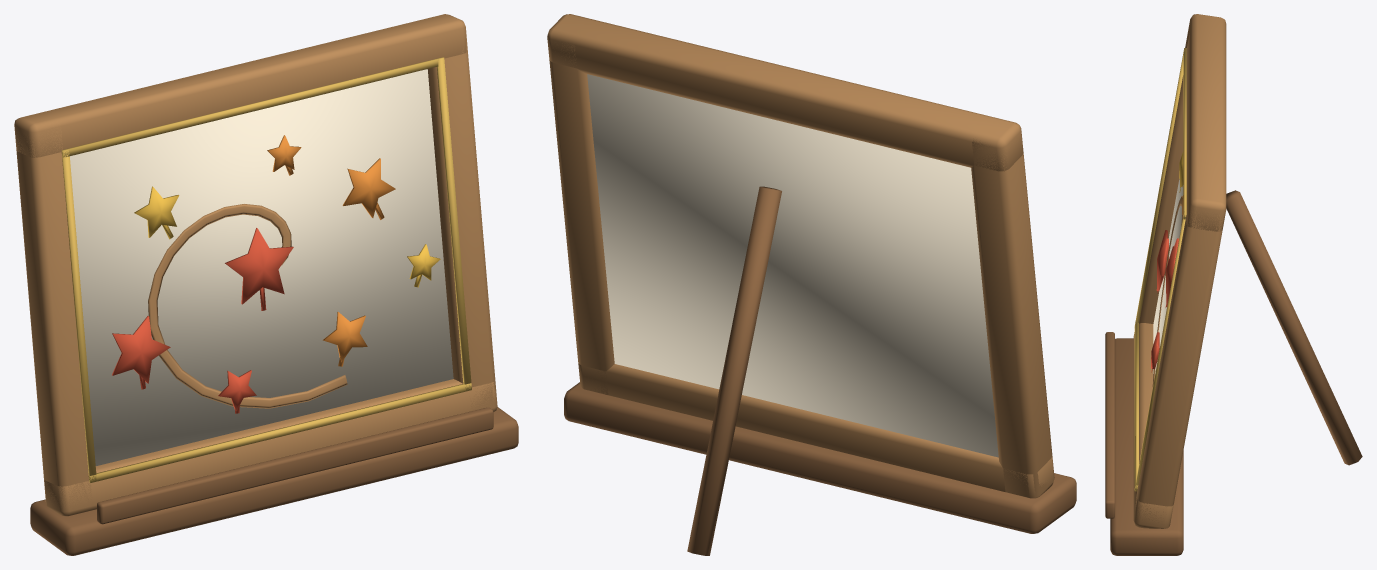
File: art-dancing-leaves.glb
The picture shows the model from 3 angles, left to right: view 1: azimuth 30°, elevation 25°; view 2: azimuth 150°, elevation 25°; view 3: azimuth 270°, elevation 25°; orthographic projection. The views are drawn at different scales.
Visible parts, largest first — view 1: art; view 2: art; view 3: art.
Part boxes in pixels (box(x1,y1,x2,y2)): art: box(14, 14, 518, 555); art: box(547, 14, 1076, 555); art: box(1105, 14, 1362, 555).
Bounding box in the file's own units: 0.57 × 0.4826 × 0.3151.
